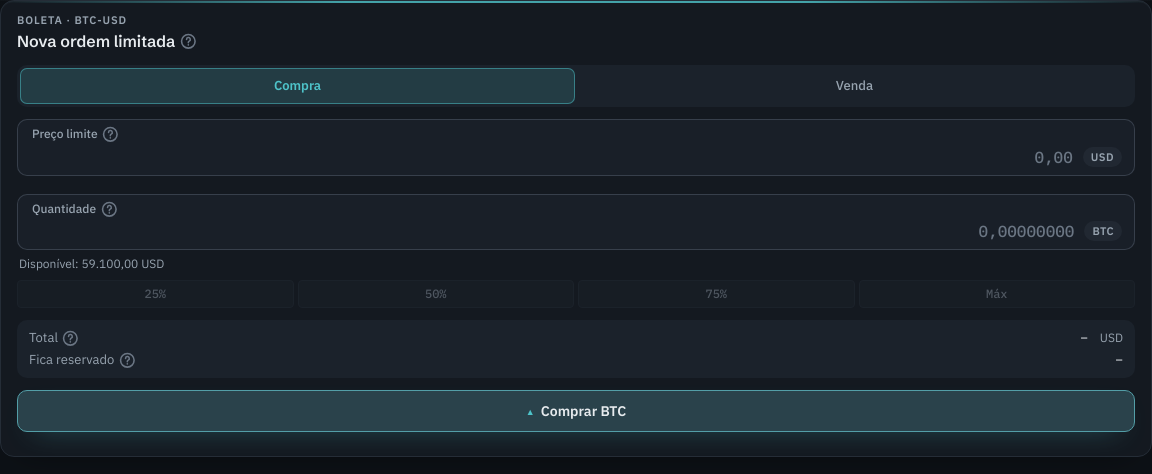
Help bubbles on the market screen › Should explain each part of the ticket without taking the fields their names
Click the button named "O que é Preço limite?": (111, 134) [102,126,119,143]
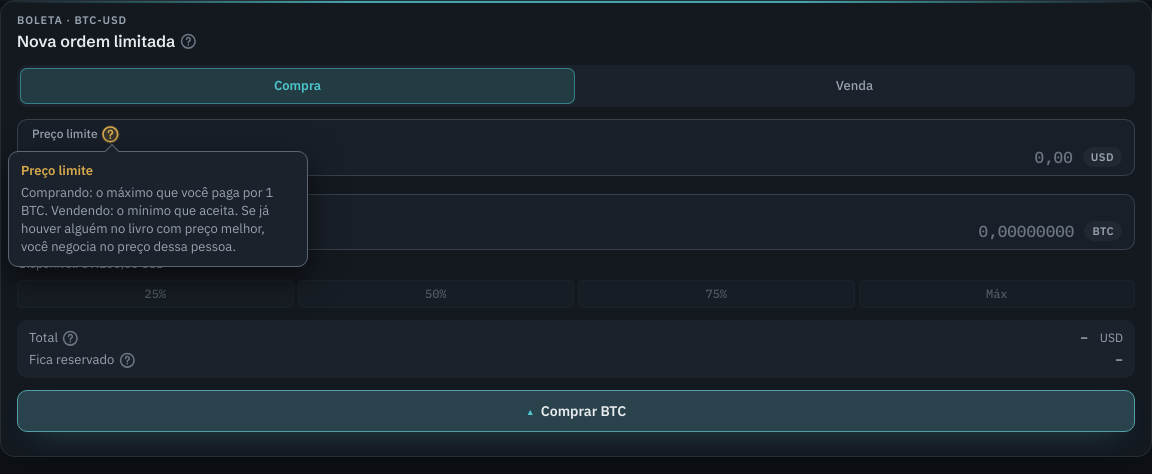
Check: the tooltip shows "o máximo que você paga por 1 BTC", box [21,184,273,255]
